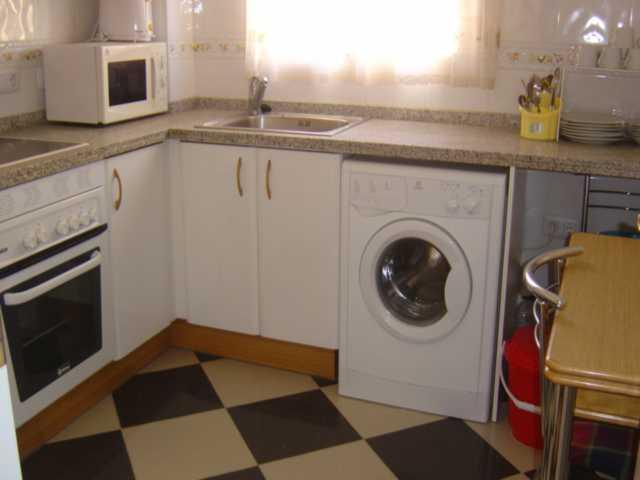Electrodomestico: (336, 153, 499, 426), (5, 169, 116, 420)
